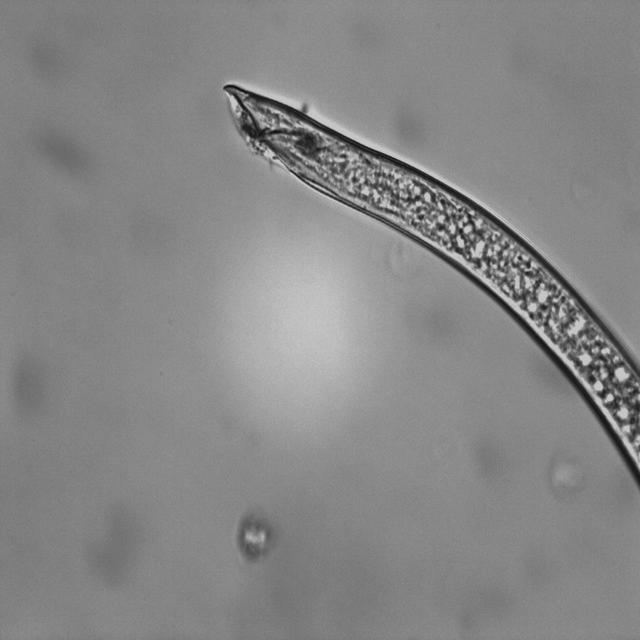Helicotylenchus: (215, 74, 640, 500)
